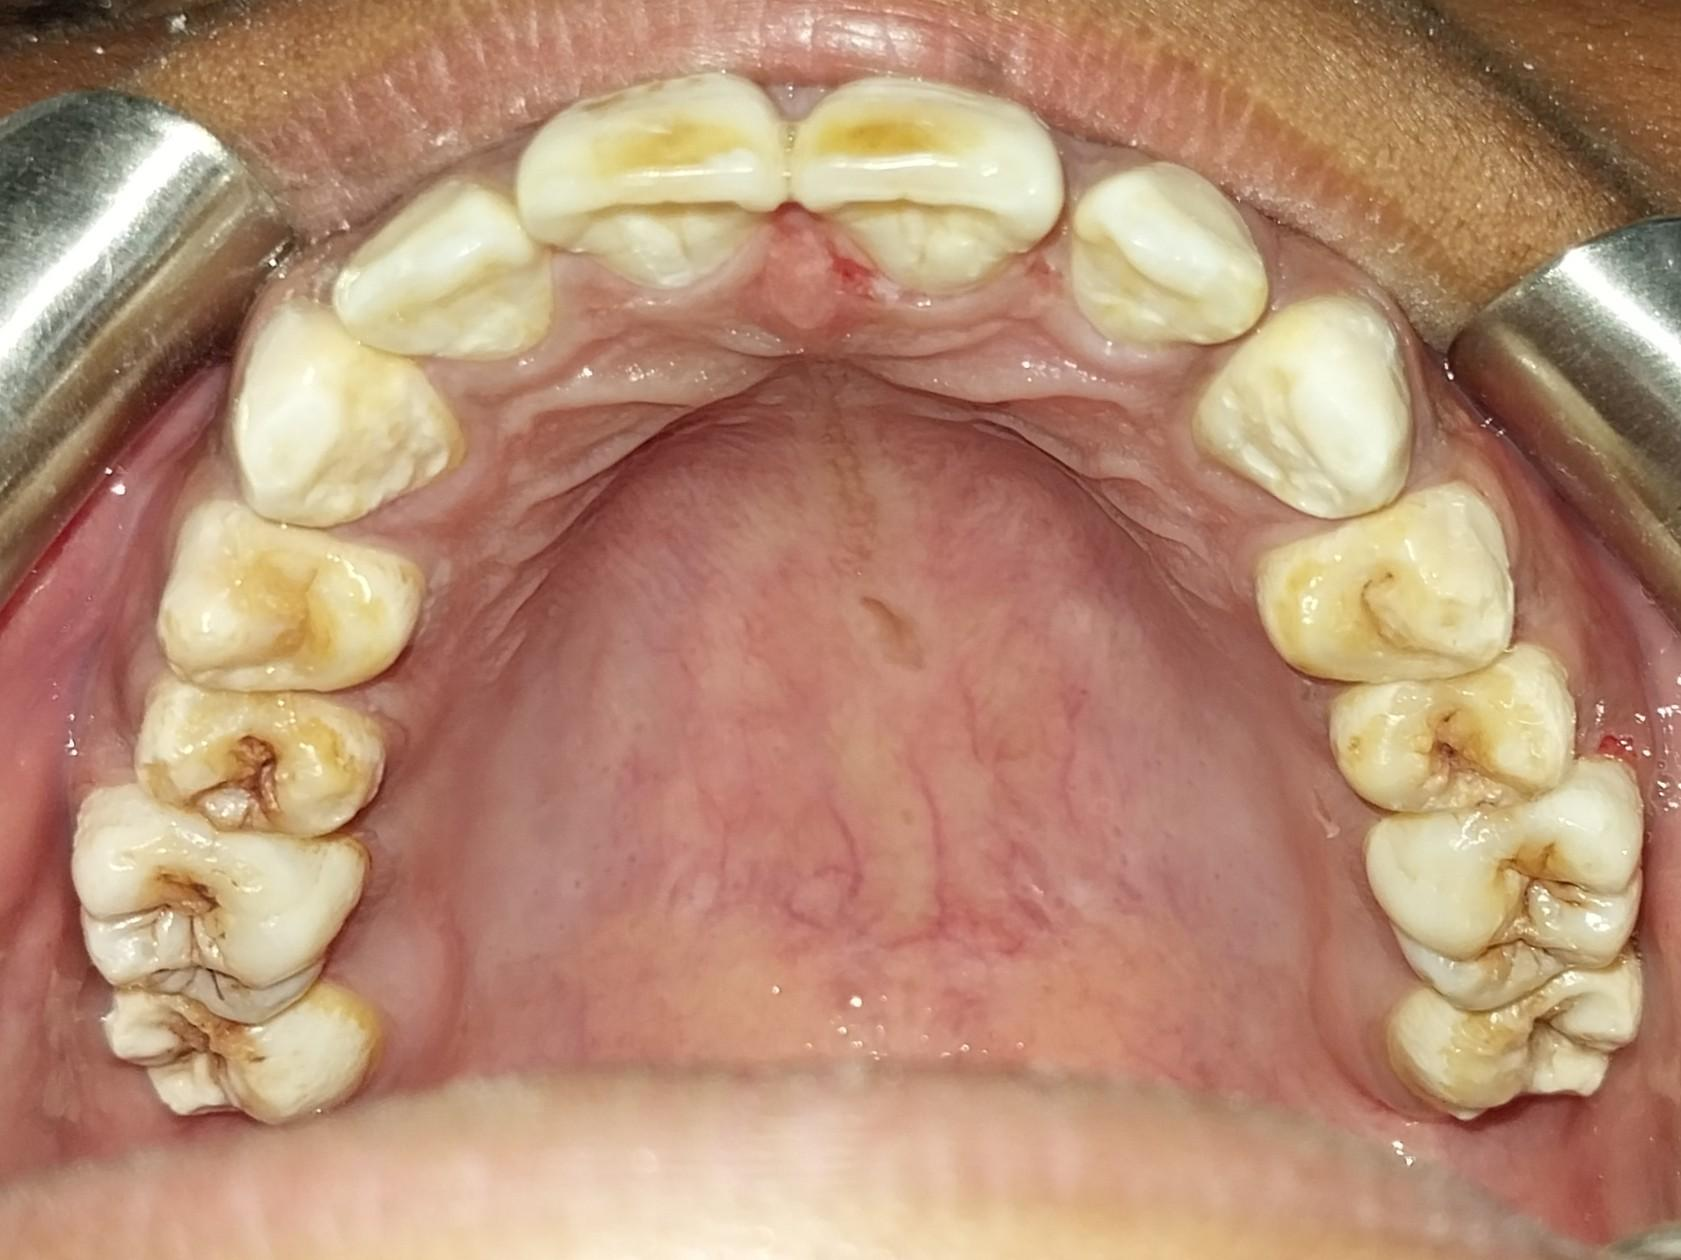D: (1370, 762, 1637, 1001), (73, 791, 351, 1015), (1341, 658, 1571, 815), (131, 691, 384, 832), (106, 995, 374, 1112)
